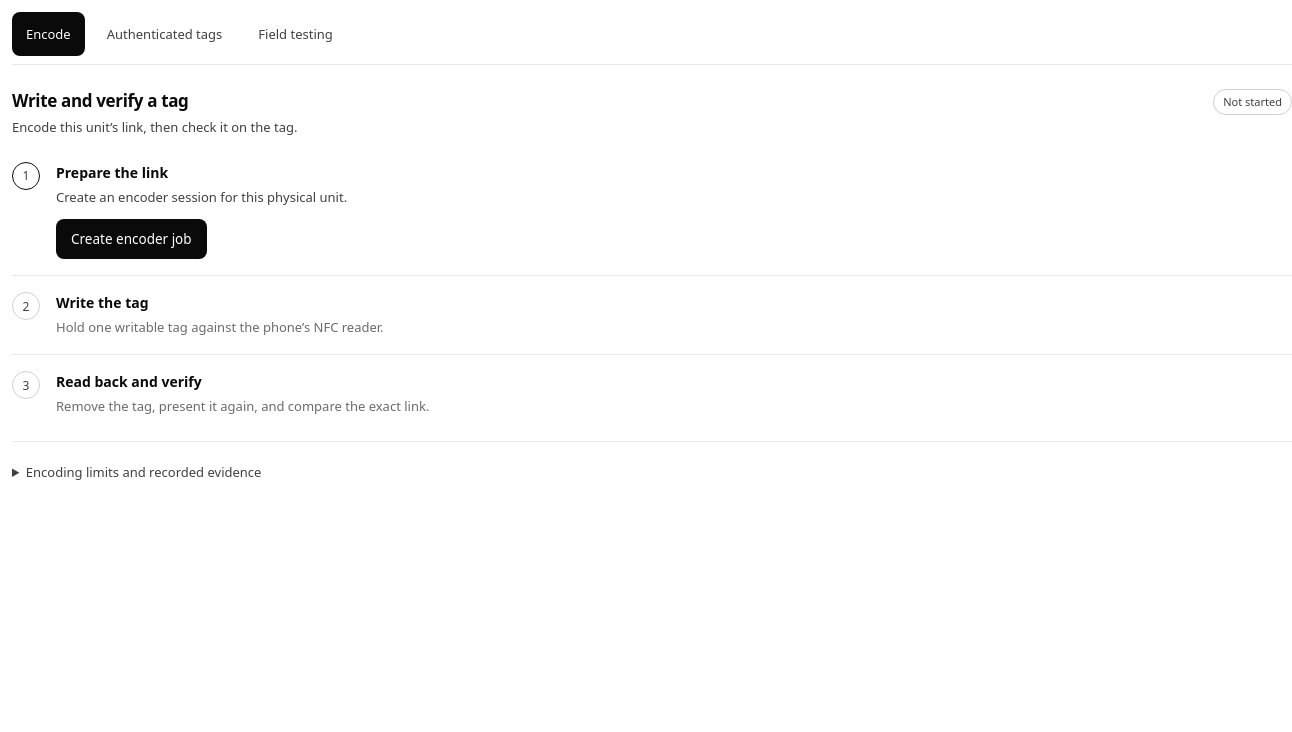
NFC tools task layout › progresses through write and exact readback before allowing explicitly confirmed locking
Click the button "Create encoder job" at (131, 239), box left=56, top=219, right=207, bottom=259
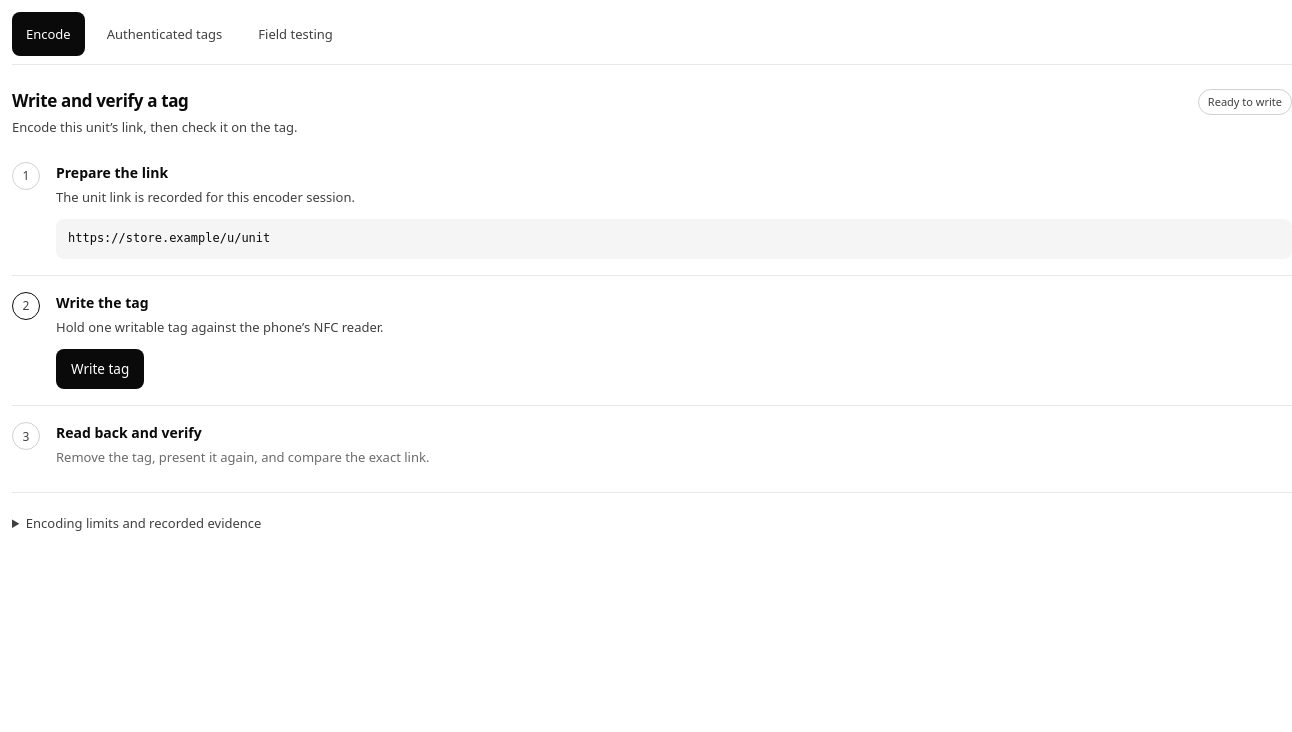
Click the button "Write tag" at (100, 369), box left=56, top=349, right=144, bottom=389
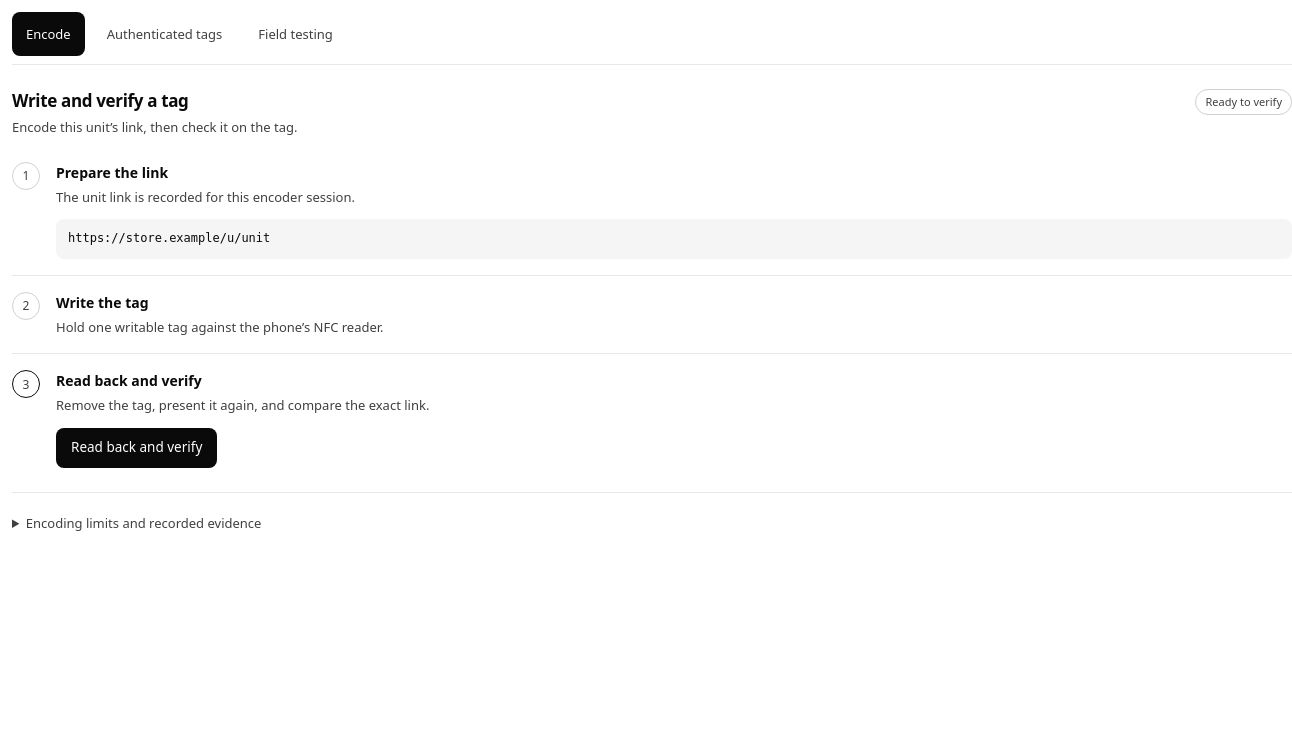
Click the button "Read back and verify" at (137, 448), box left=56, top=428, right=217, bottom=468
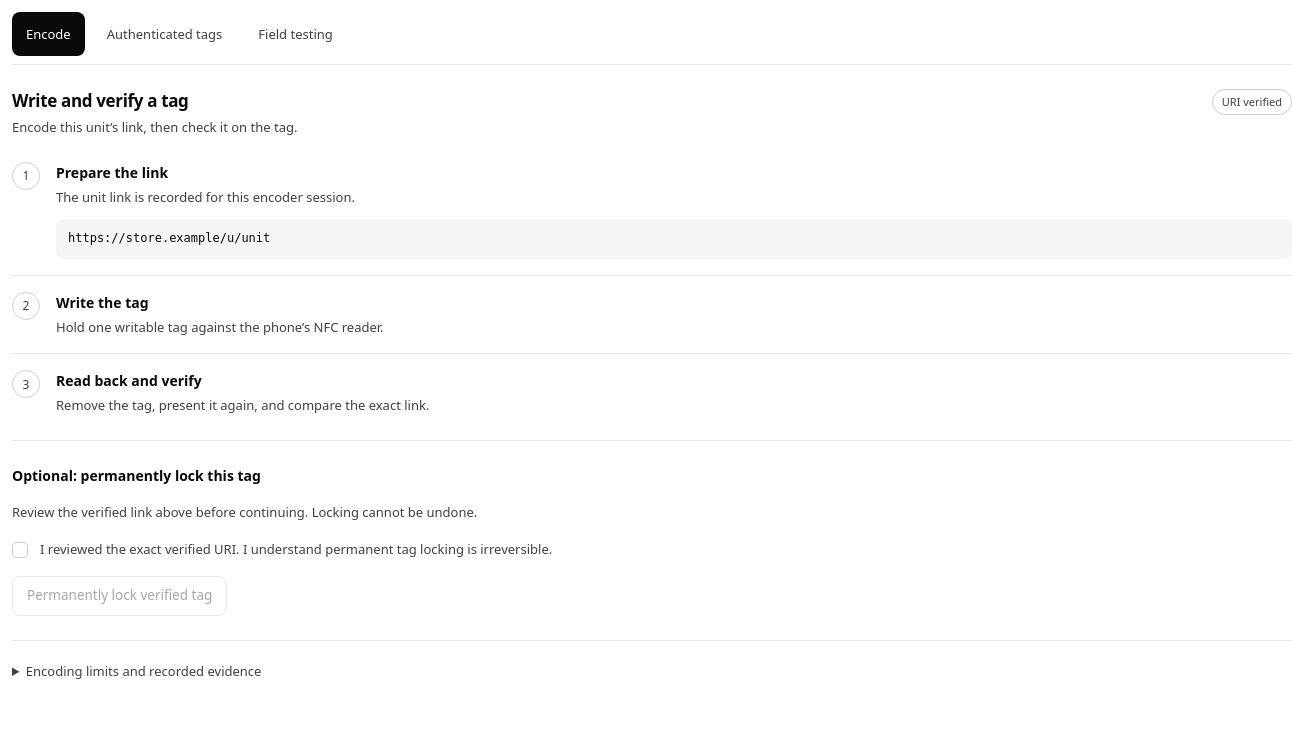
Now the button "Permanently lock verified tag" is disabled, box left=12, top=576, right=227, bottom=616
Click the checkbox at (20, 550), box left=12, top=542, right=28, bottom=558
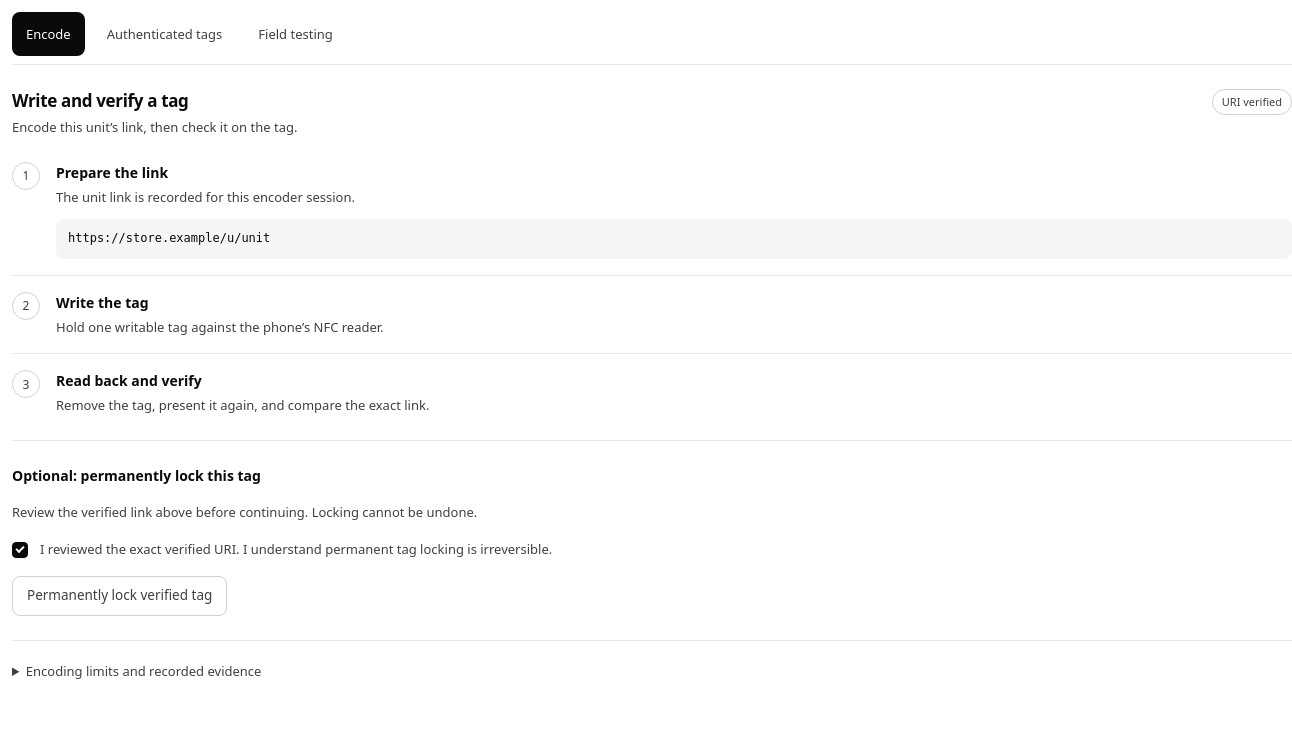
Now the button "Permanently lock verified tag" is enabled
Click the button "Permanently lock verified tag" at (120, 596), box left=12, top=576, right=227, bottom=616
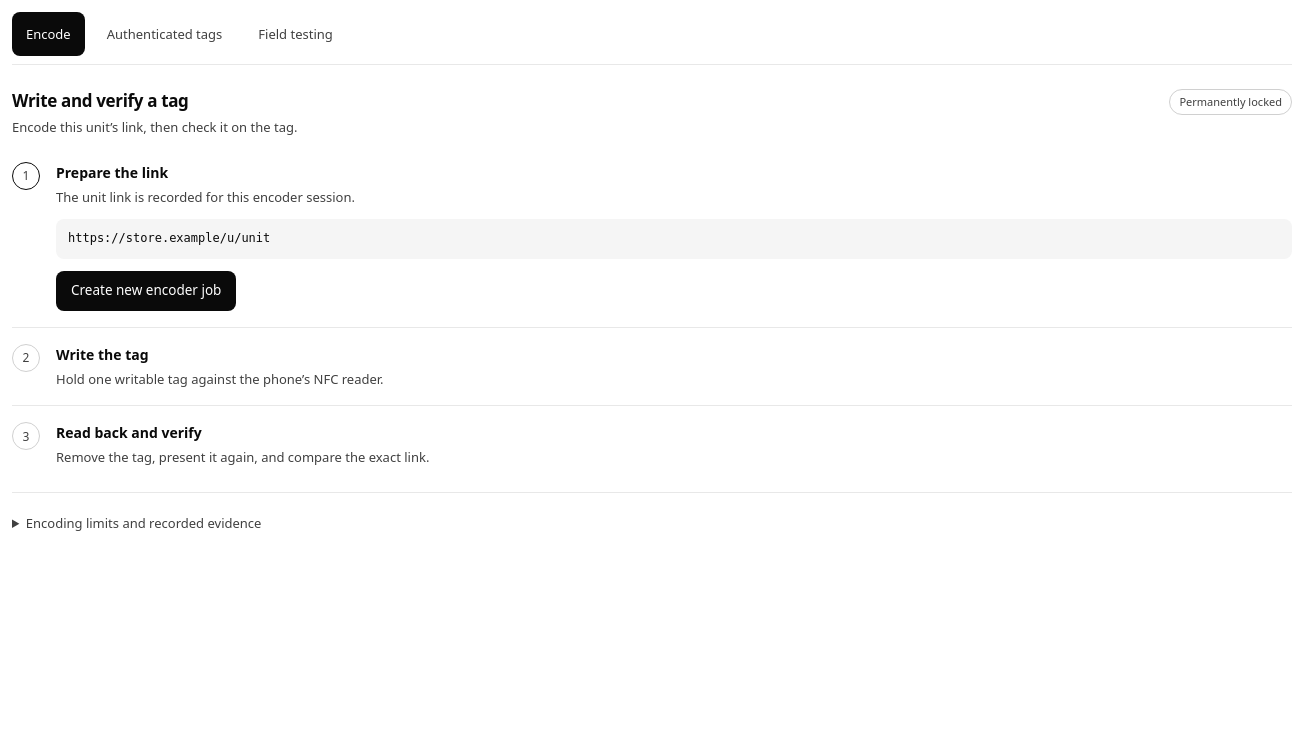
Now the text "Permanently locked" is shown, box left=1169, top=89, right=1291, bottom=115
